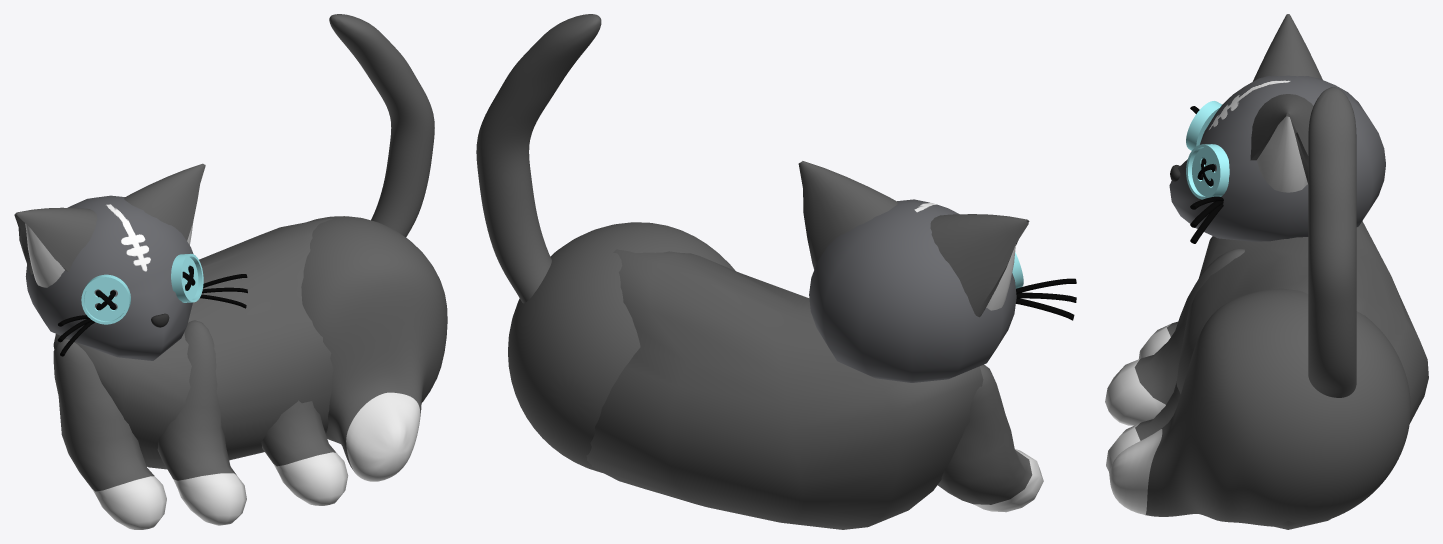
File: cat.fbx
The picture shows the model from 3 angles, left to right: view 1: azimuth 30°, elevation 25°; view 2: azimuth 150°, elevation 25°; view 3: azimuth 270°, elevation 25°; orthographic projection. The views are drawn at different scales.
Visible parts, largest first — view 1: 球.001, 球.004, 球, 球.002, 円柱, 球.003, 円錐, 球.005, 円, 円柱.003; view 2: 球.001, 球, 球.004, 円柱, 円錐, 球.002, 円柱.003; view 3: 球.004, 円柱, 球, 球.001, 円錐, 球.003, 円, 球.005, 円柱.003, 球.002.
Boxes of the visible parts, bbox=[...] form: 球.001: bbox=[53, 218, 333, 469]; 球.004: bbox=[301, 216, 447, 481]; 球: bbox=[25, 195, 193, 360]; 球.002: bbox=[53, 339, 166, 529]; 円柱: bbox=[329, 14, 434, 237]; 球.003: bbox=[157, 320, 246, 525]; 円錐: bbox=[14, 163, 205, 287]; 球.005: bbox=[261, 400, 348, 505]; 円: bbox=[81, 253, 203, 324]; 円柱.003: bbox=[57, 274, 247, 356]; 球.001: bbox=[586, 249, 983, 529]; 球: bbox=[809, 199, 1016, 382]; 球.004: bbox=[508, 222, 735, 472]; 円柱: bbox=[476, 14, 601, 303]; 円錐: bbox=[798, 161, 1029, 317]; 球.002: bbox=[938, 364, 1043, 512]; 円柱.003: bbox=[1016, 278, 1076, 320]; 球.004: bbox=[1109, 288, 1410, 526]; 円柱: bbox=[1308, 87, 1356, 397]; 球: bbox=[1169, 75, 1385, 241]; 球.001: bbox=[1176, 221, 1428, 529]; 円錐: bbox=[1250, 14, 1322, 192]; 球.003: bbox=[1105, 249, 1244, 425]; 円: bbox=[1186, 101, 1229, 199]; 球.005: bbox=[1106, 381, 1180, 471]; 円柱.003: bbox=[1190, 106, 1223, 243]; 球.002: bbox=[1139, 321, 1177, 358].
Bounding box in the file's own units: 1810 × 1582 × 1023.
Materials: 12 (1 with a texture image).
